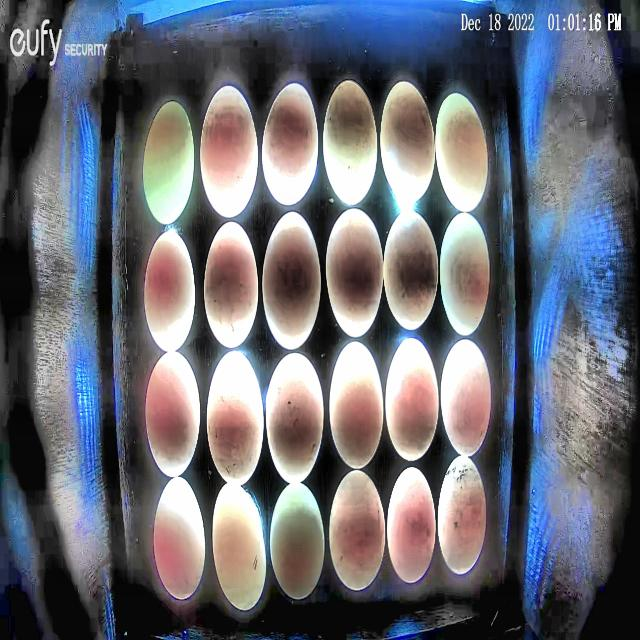UF: (262, 210, 322, 351), (264, 351, 325, 485), (206, 347, 264, 487), (200, 84, 258, 219), (325, 206, 383, 340), (211, 480, 267, 612), (202, 220, 259, 349), (328, 340, 384, 469), (328, 468, 386, 592), (262, 81, 319, 206), (322, 80, 378, 206), (380, 79, 436, 205), (145, 352, 201, 478), (152, 475, 207, 600), (384, 208, 439, 332), (385, 338, 440, 462), (439, 208, 491, 338), (436, 91, 490, 215), (143, 100, 195, 227), (270, 482, 325, 600), (144, 229, 196, 353), (441, 336, 492, 458), (436, 454, 486, 576), (386, 465, 437, 584)
